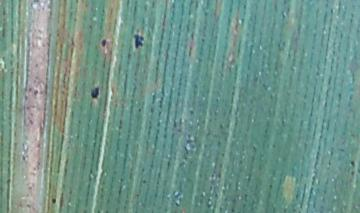tarspot: (130, 29, 146, 53), (87, 82, 102, 105), (347, 156, 360, 176), (98, 34, 109, 52), (49, 195, 60, 206)
